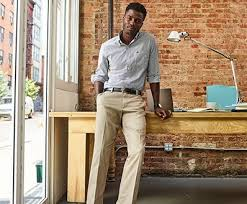F_belt: (100, 85, 146, 99)
F_shirt: (95, 36, 161, 95)
